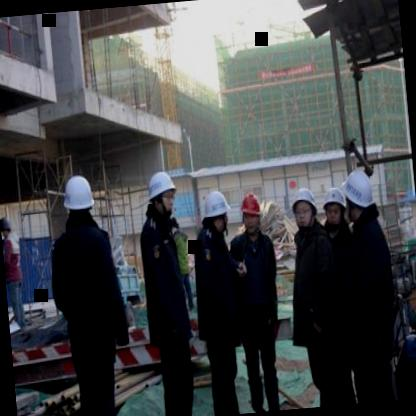helmet: (342, 167, 376, 222), (61, 174, 96, 222), (200, 188, 232, 240), (144, 170, 179, 216), (290, 186, 320, 232), (320, 186, 350, 228), (239, 192, 264, 234), (0, 213, 13, 243)
